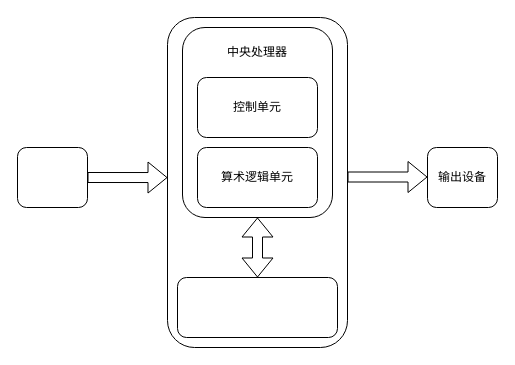
Image size: 515x365. Some labels were removed from this diagram. The shapes that lost their labels are listed below. From the top down, each one's centre as x and y in pixels, then its label:
At point 52,177: "输入设备".
At point 257,307: "内存".
